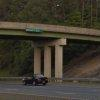Bridge: (5, 13, 96, 69)
